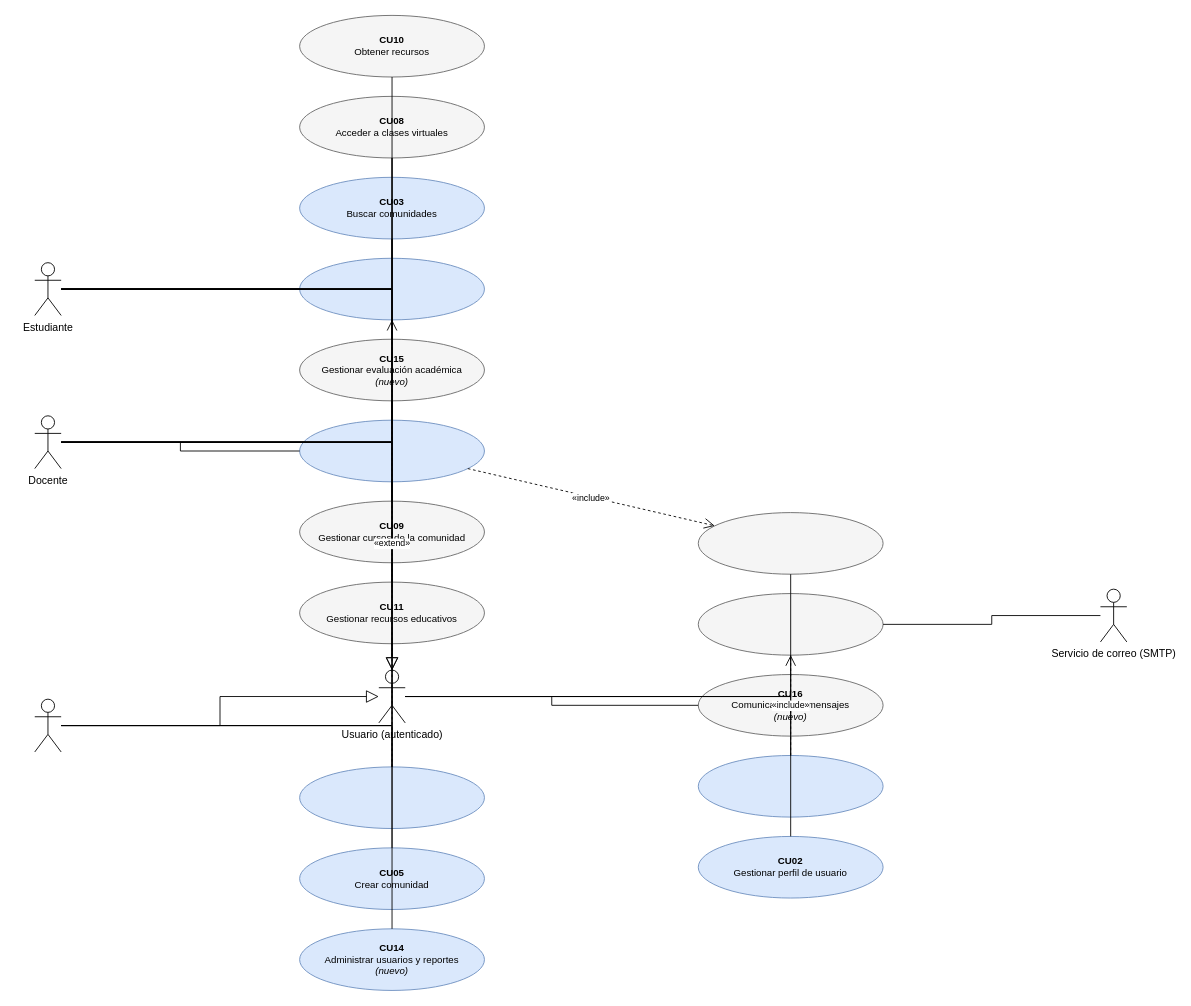
Some shapes in this 1191 by 1006 pixel diagram are drawn without their labels. The box of each missing label's shape, as (x1, y1, x2, y2) in pixels:
Administrador: (34, 698, 61, 752)
CU01 Ingresar a la plataforma: (697, 755, 883, 817)
CU04 Unirse a comunidad: (299, 257, 484, 320)
CU06 Gestionar miembros: (299, 766, 484, 829)
CU07 Gestionar publicaciones educativas: (299, 419, 484, 482)
CU12 Gestionar notificaciones y avisos: (697, 512, 883, 574)
CU13 Proteger cuenta de usuario: (697, 593, 883, 655)
